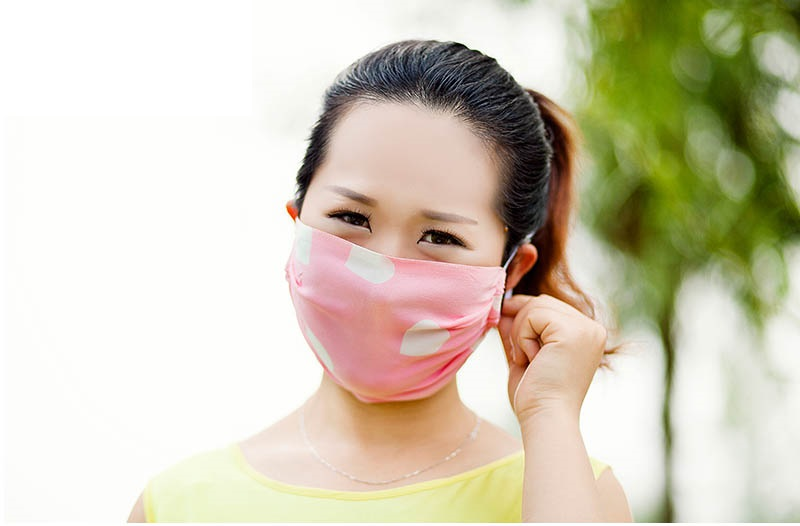face_mask: (292, 107, 502, 405)
